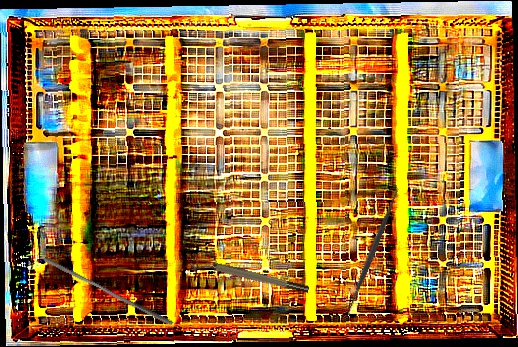Fixation Ring: (188, 252, 311, 301)
Pusher: (40, 255, 177, 327)
Spatula Surgical: (339, 183, 407, 317)
